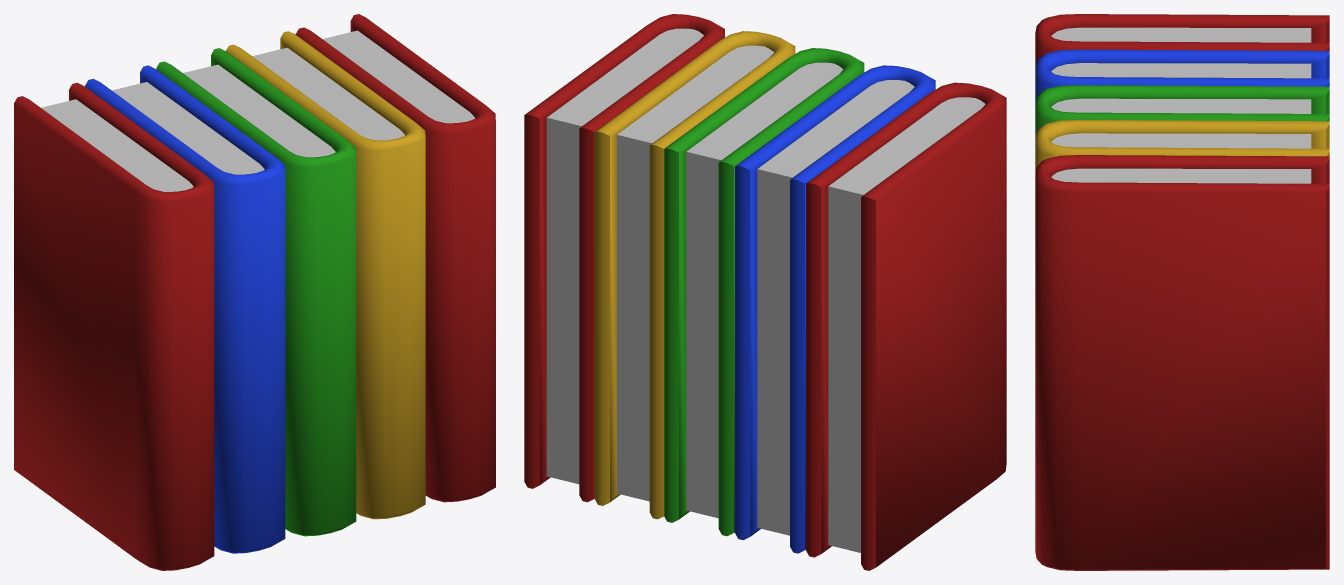
The model's file is Book Stack.FBX.
3 views of the same model, side by side, from view 1: azimuth 30°, elevation 25°; view 2: azimuth 150°, elevation 25°; view 3: azimuth 270°, elevation 25° (orthographic). The views are drawn at different scales.
Parts seen in each view (by area): view 1: Box007; view 2: Box007; view 3: Box007.
Boxes of the visible parts, x1=… form: Box007: x1=14, y1=14, x2=495, y2=570; Box007: x1=524, y1=14, x2=1006, y2=570; Box007: x1=1035, y1=14, x2=1329, y2=570.
Bounding box in the file's own units: 15.16 × 15.49 × 10.71.
